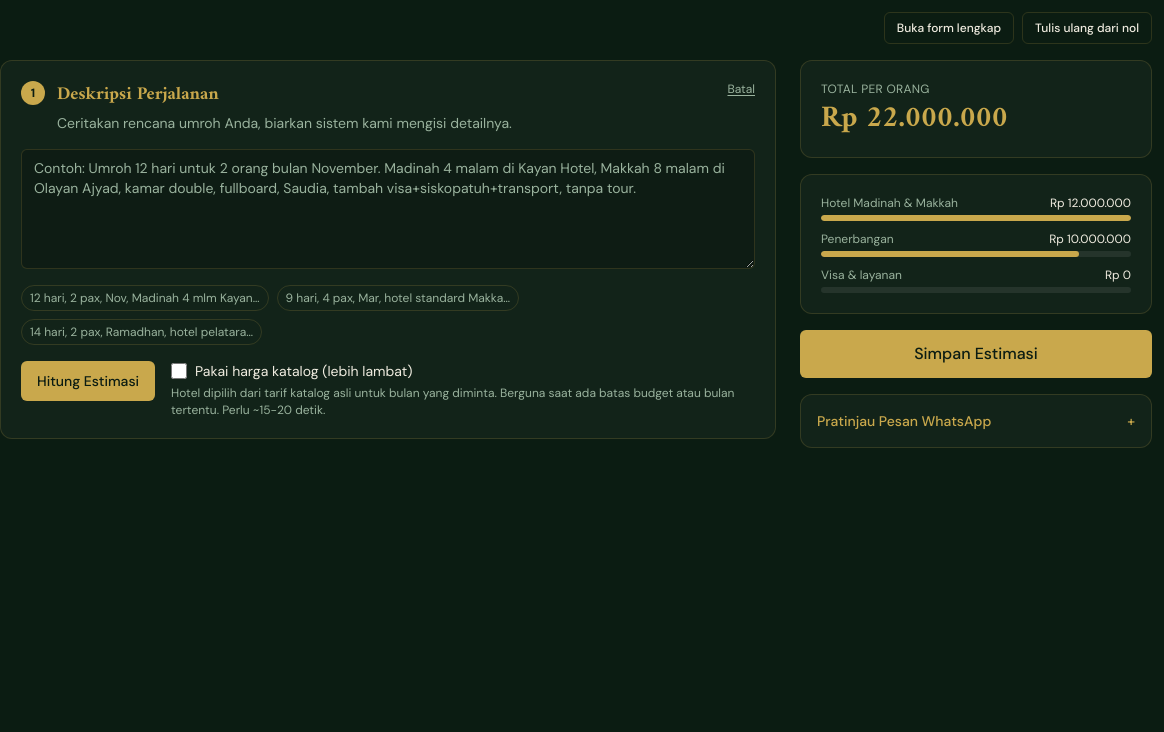
it: EstimatorClient renders enhanced provenance in the existing notes area (R5) › shows a QUAD fallback as a substitution, not as a bare rate (KTD4)
Replace the text in the text box with "umroh 12 hari maret double" at point(388, 209), box [21, 149, 755, 269]
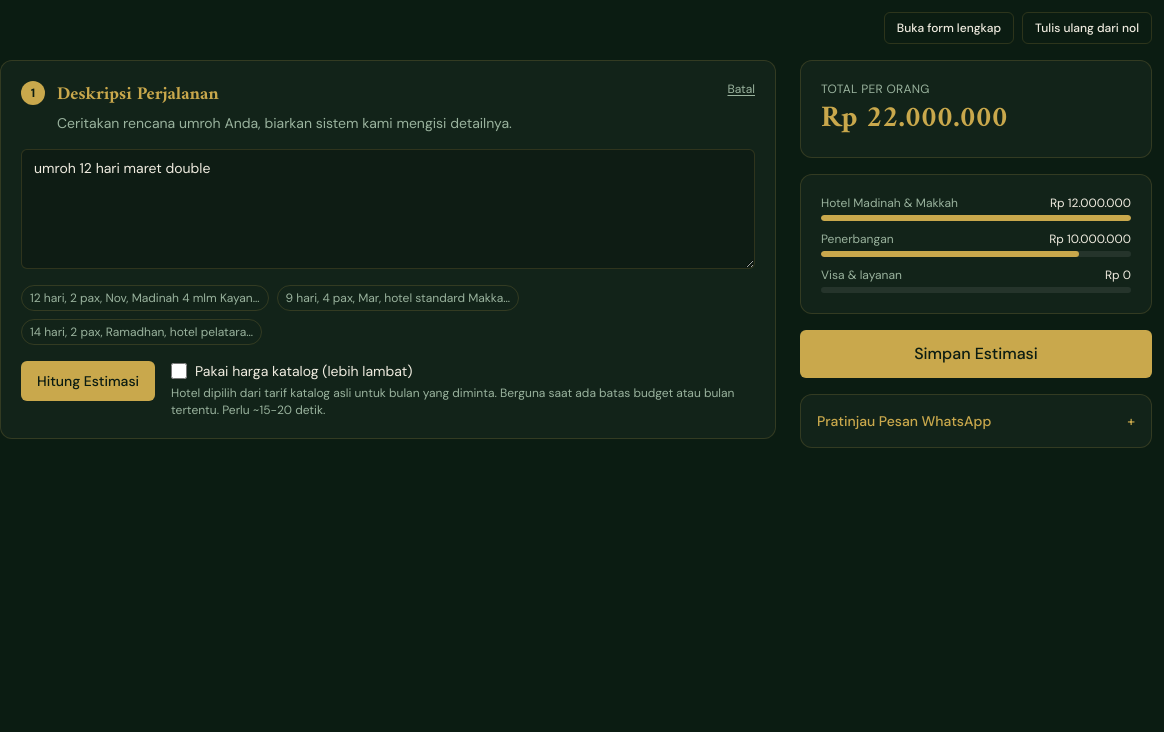
Click the checkbox labelled "Pakai harga katalog (lebih lambat)" at point(179, 371), box [171, 363, 187, 379]
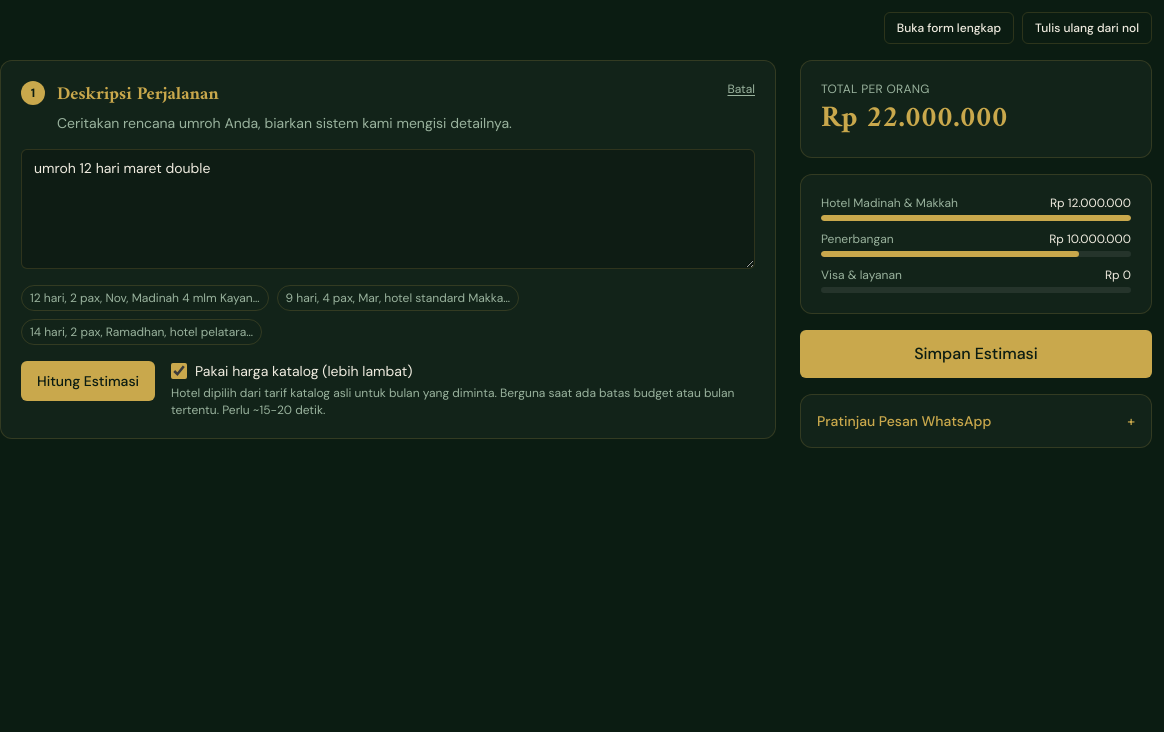
Click the button "Hitung Estimasi" at point(88, 381), box [21, 361, 155, 401]
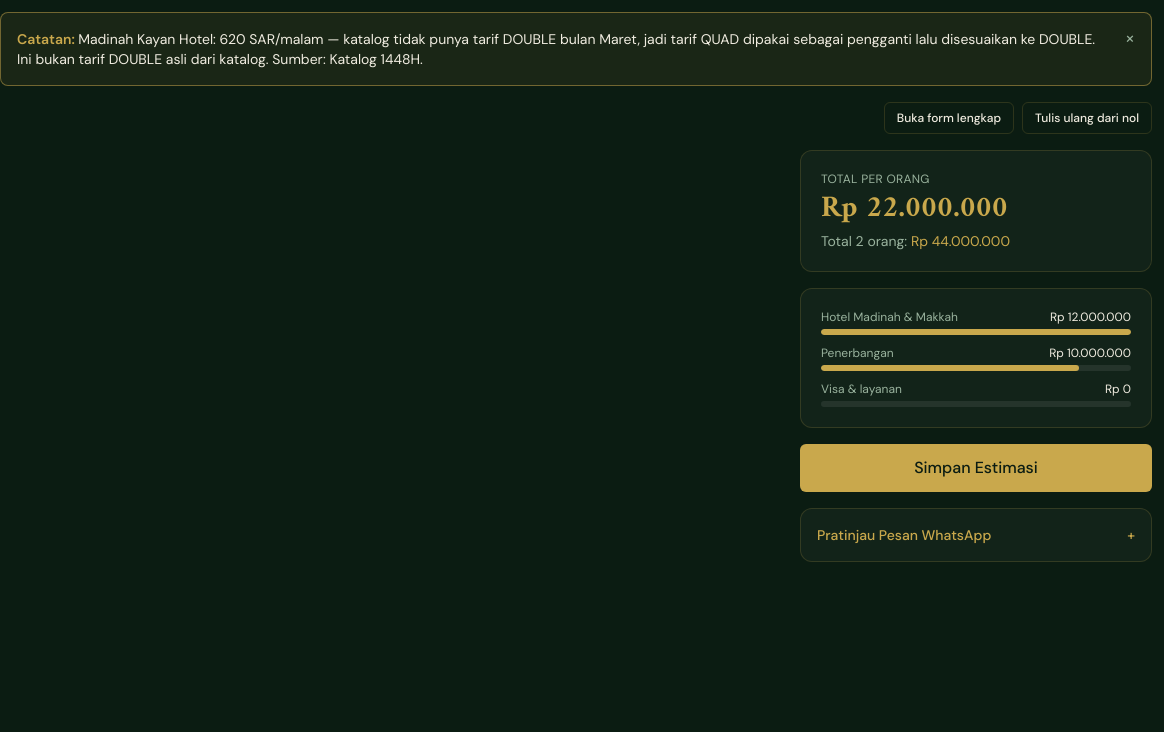
Expected: the text "Catatan:" is shown, [17, 30, 78, 48]
